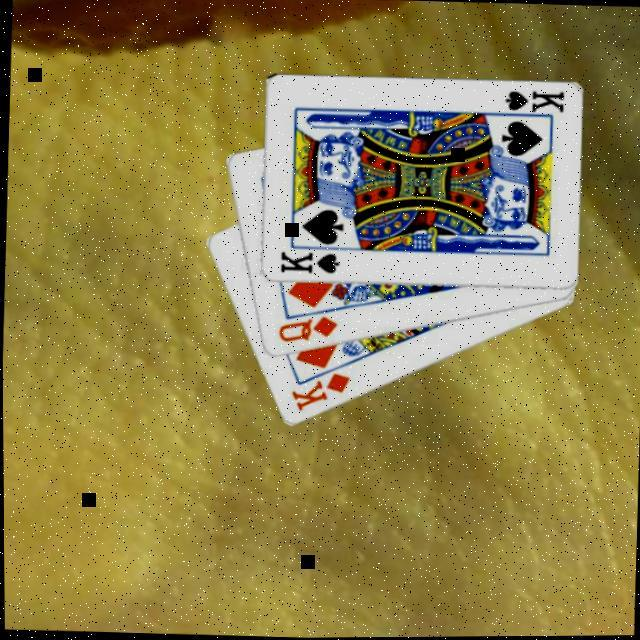KD: (287, 367, 354, 415)
KS: (496, 87, 567, 122), (276, 248, 342, 276)
QD: (274, 311, 340, 346)
